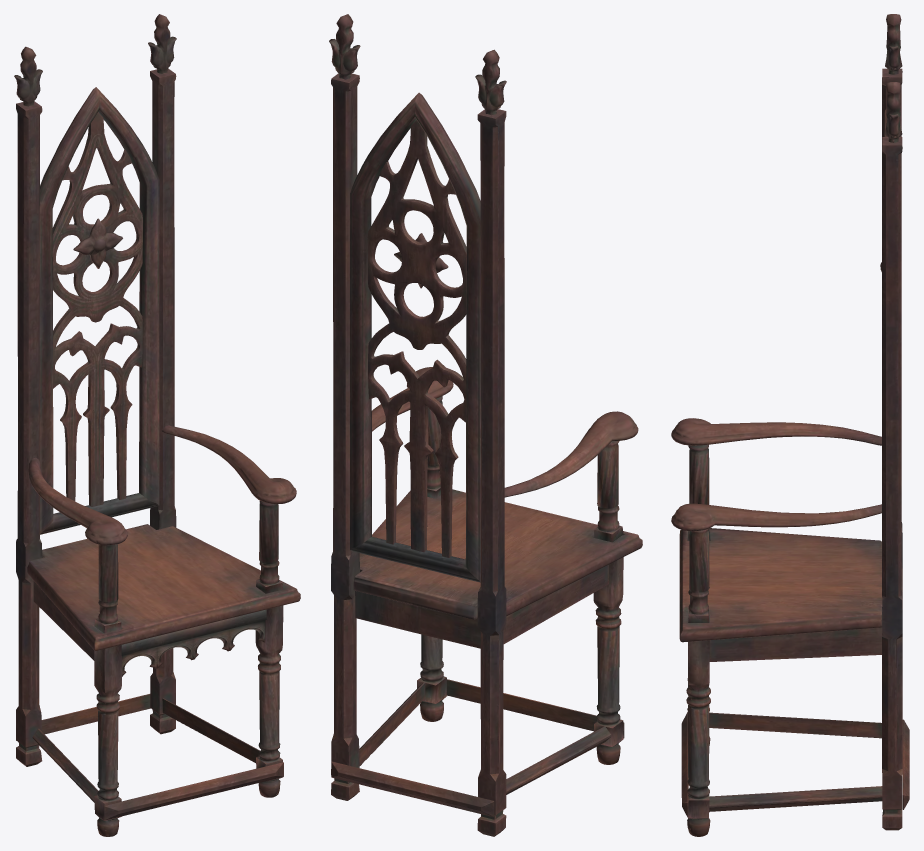
The model's file is WoodenChair_01.glb.
The picture shows the model from 3 angles, left to right: view 1: azimuth 30°, elevation 25°; view 2: azimuth 150°, elevation 25°; view 3: azimuth 270°, elevation 25°; orthographic projection. The views are drawn at different scales.
Parts seen in each view (by area): view 1: WoodenChair_01; view 2: WoodenChair_01; view 3: WoodenChair_01.
Part boxes in pixels (box(x1,y1,x2,y2)): WoodenChair_01: box(14, 14, 300, 836); WoodenChair_01: box(329, 14, 642, 836); WoodenChair_01: box(671, 14, 909, 836).
Size of the model in its own units: 0.6882 by 2.27 by 0.6585.
Materials: 1 (1 with a texture image).
